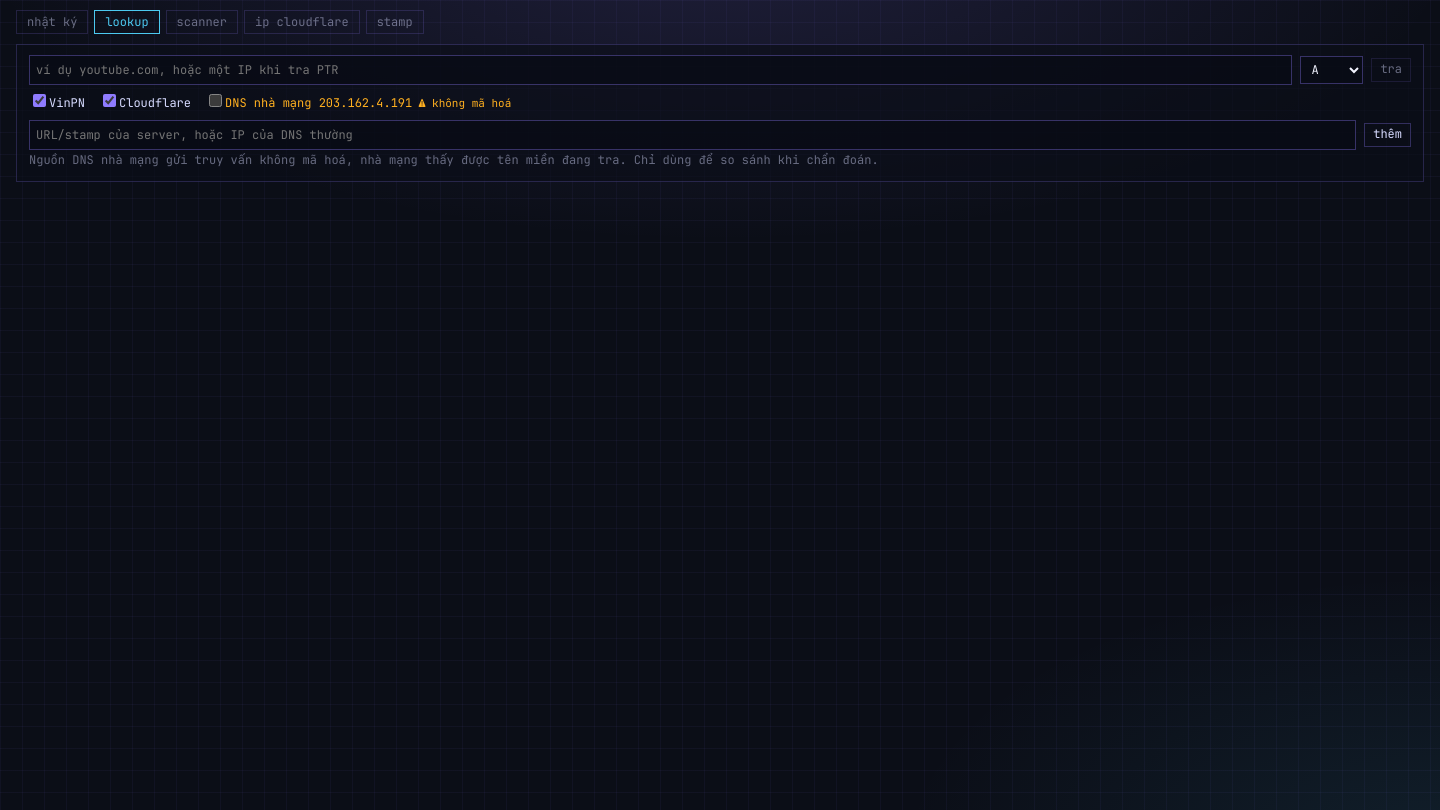
Test: verdict differs has its own title
Type "x.com" into the field named "tên miền" at x=661, y=70, box 29,55 -> 1292,85
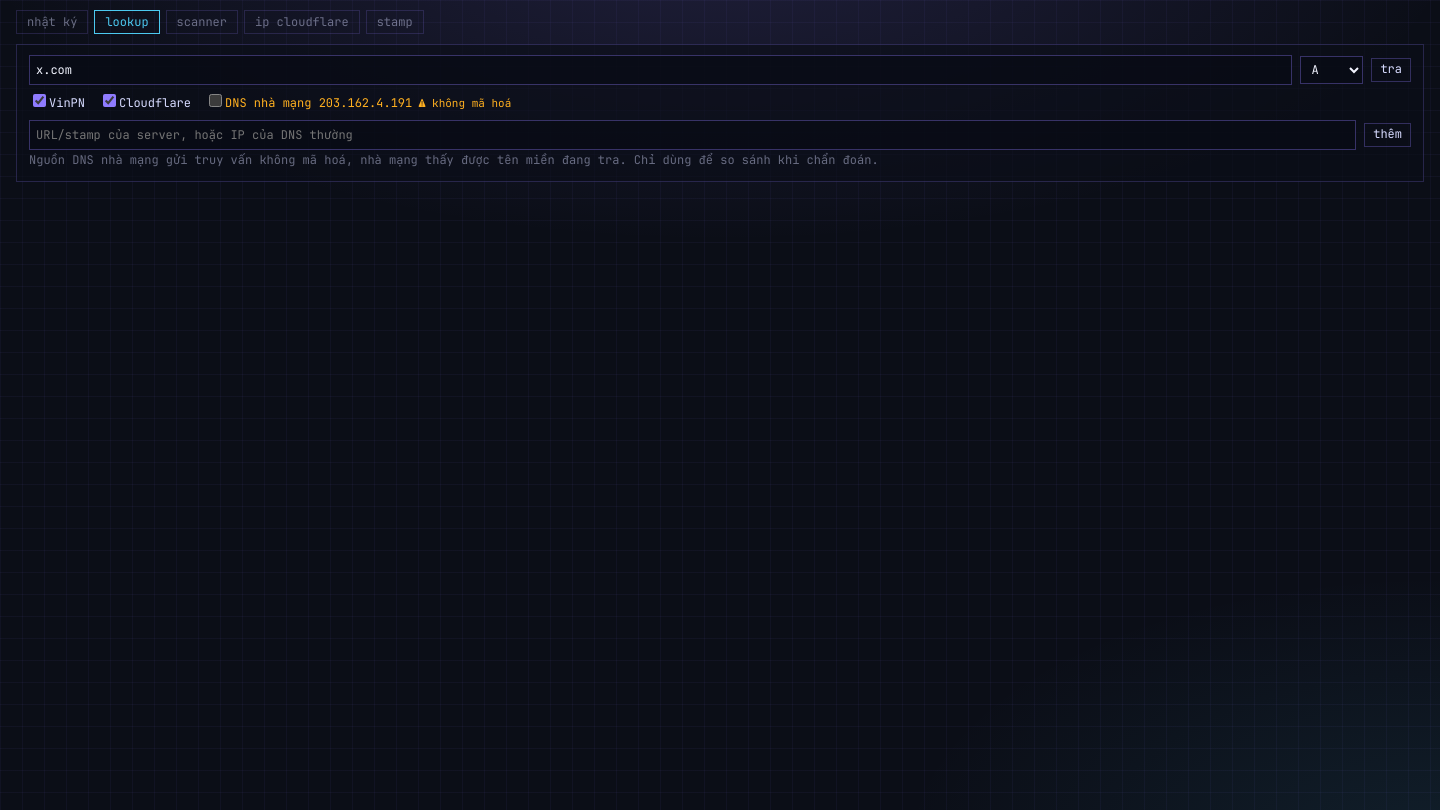
Click the button "tra" at x=1391, y=70, box 1371,58 -> 1411,82
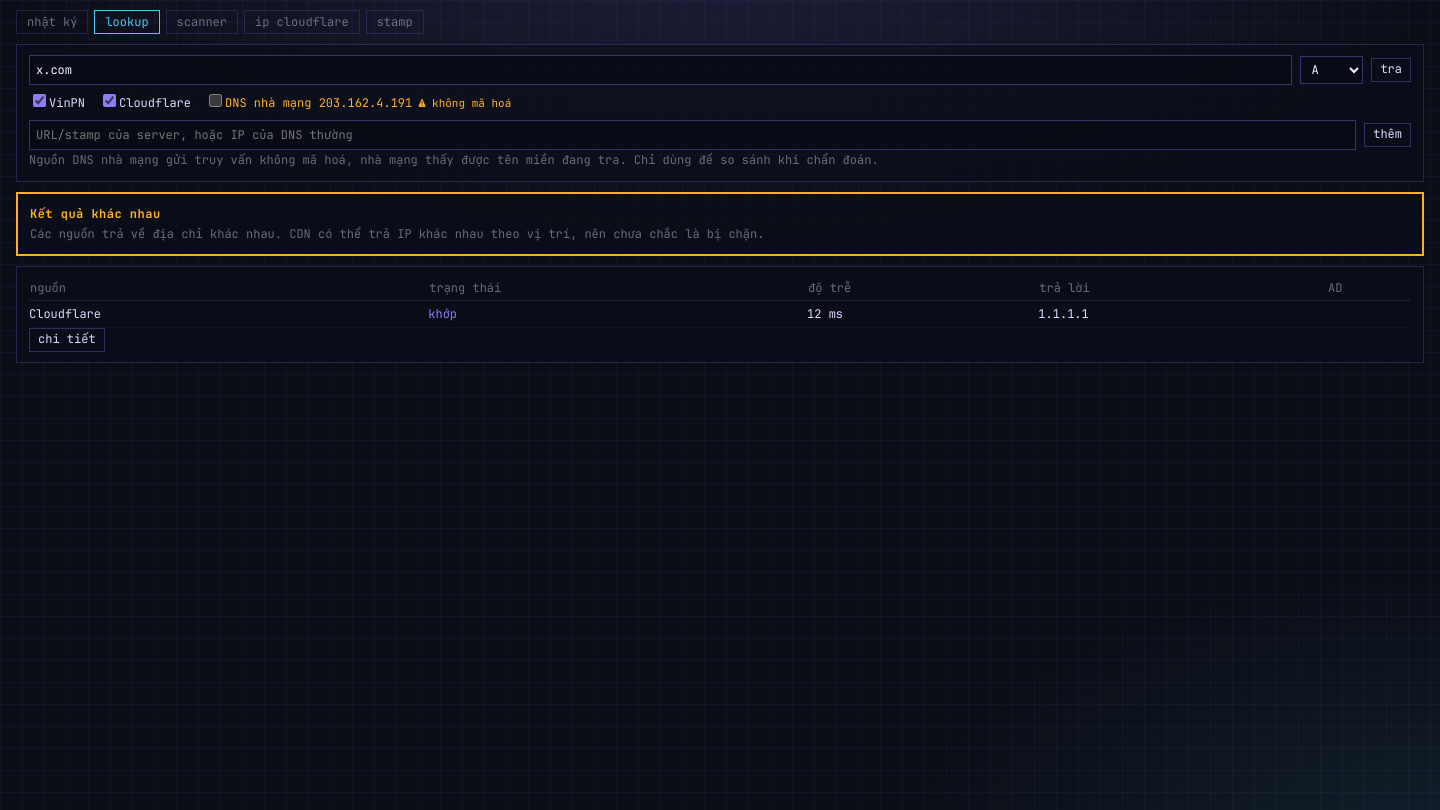
Check: the text "Kết quả khác nhau" is shown, box 30,206 -> 161,222
